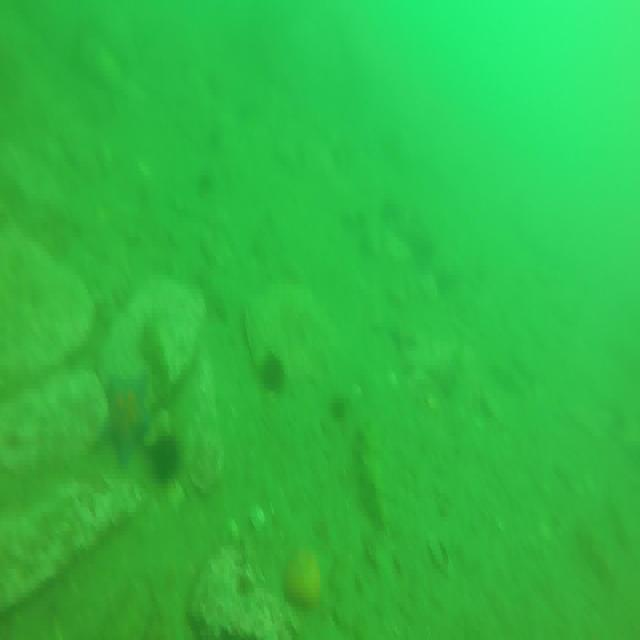echinus: (151, 436, 182, 480), (258, 351, 284, 392), (331, 392, 349, 423)
holothurian: (360, 424, 391, 537)
starfish: (90, 374, 150, 468)
